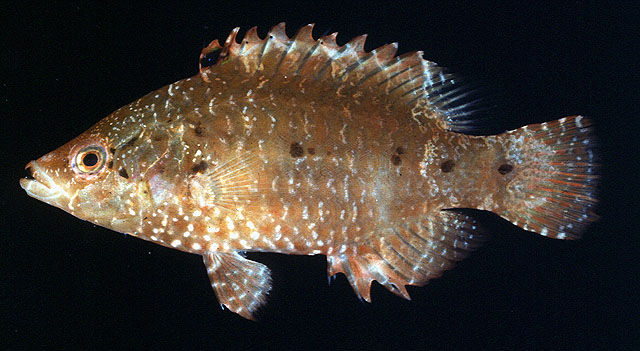fish: (19, 21, 601, 319)
